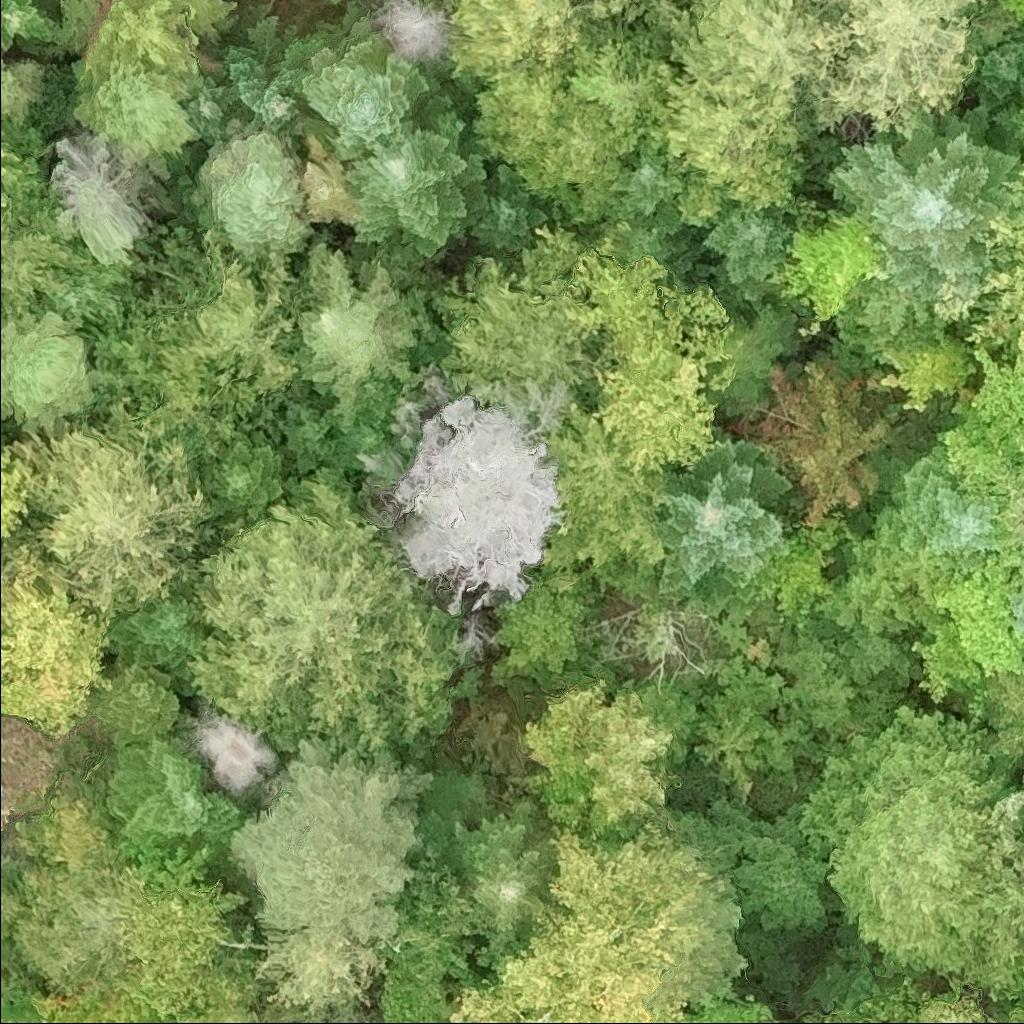crown: (195, 483, 447, 758), (802, 704, 1023, 994), (826, 91, 1023, 352), (451, 827, 697, 1023), (230, 737, 434, 949), (11, 417, 205, 615), (393, 393, 568, 611), (801, 0, 1016, 138), (728, 354, 894, 525), (280, 0, 450, 166), (341, 76, 494, 260), (564, 248, 737, 398), (653, 425, 799, 599), (523, 682, 673, 844), (537, 406, 669, 589), (0, 549, 115, 737), (437, 254, 584, 393), (179, 230, 298, 396), (295, 243, 426, 393), (11, 847, 141, 992), (476, 60, 613, 193), (761, 193, 879, 337), (106, 730, 248, 847), (599, 345, 716, 474), (661, 66, 804, 169), (197, 129, 310, 257), (670, 0, 823, 93), (88, 0, 236, 94), (73, 60, 200, 163), (456, 802, 552, 933), (219, 11, 310, 143), (673, 140, 803, 230), (879, 464, 1000, 560), (446, 0, 582, 81), (128, 881, 249, 971), (37, 959, 200, 1023), (940, 347, 1023, 470), (0, 312, 90, 425), (968, 179, 1023, 362), (937, 562, 1023, 673), (876, 327, 979, 414), (0, 231, 93, 322), (467, 167, 553, 256), (109, 600, 205, 677), (697, 206, 793, 283), (200, 434, 284, 519), (693, 693, 764, 784), (94, 664, 180, 735), (329, 384, 395, 472), (976, 670, 1023, 783), (966, 20, 1023, 113), (374, 0, 456, 64), (60, 265, 138, 332), (617, 141, 686, 215), (0, 446, 47, 540), (278, 407, 340, 472), (663, 1000, 816, 1023), (182, 77, 235, 140), (605, 0, 687, 40), (0, 0, 53, 52), (990, 71, 1023, 149), (0, 146, 25, 242), (920, 1001, 991, 1023), (1008, 594, 1023, 639), (997, 0, 1023, 23)
